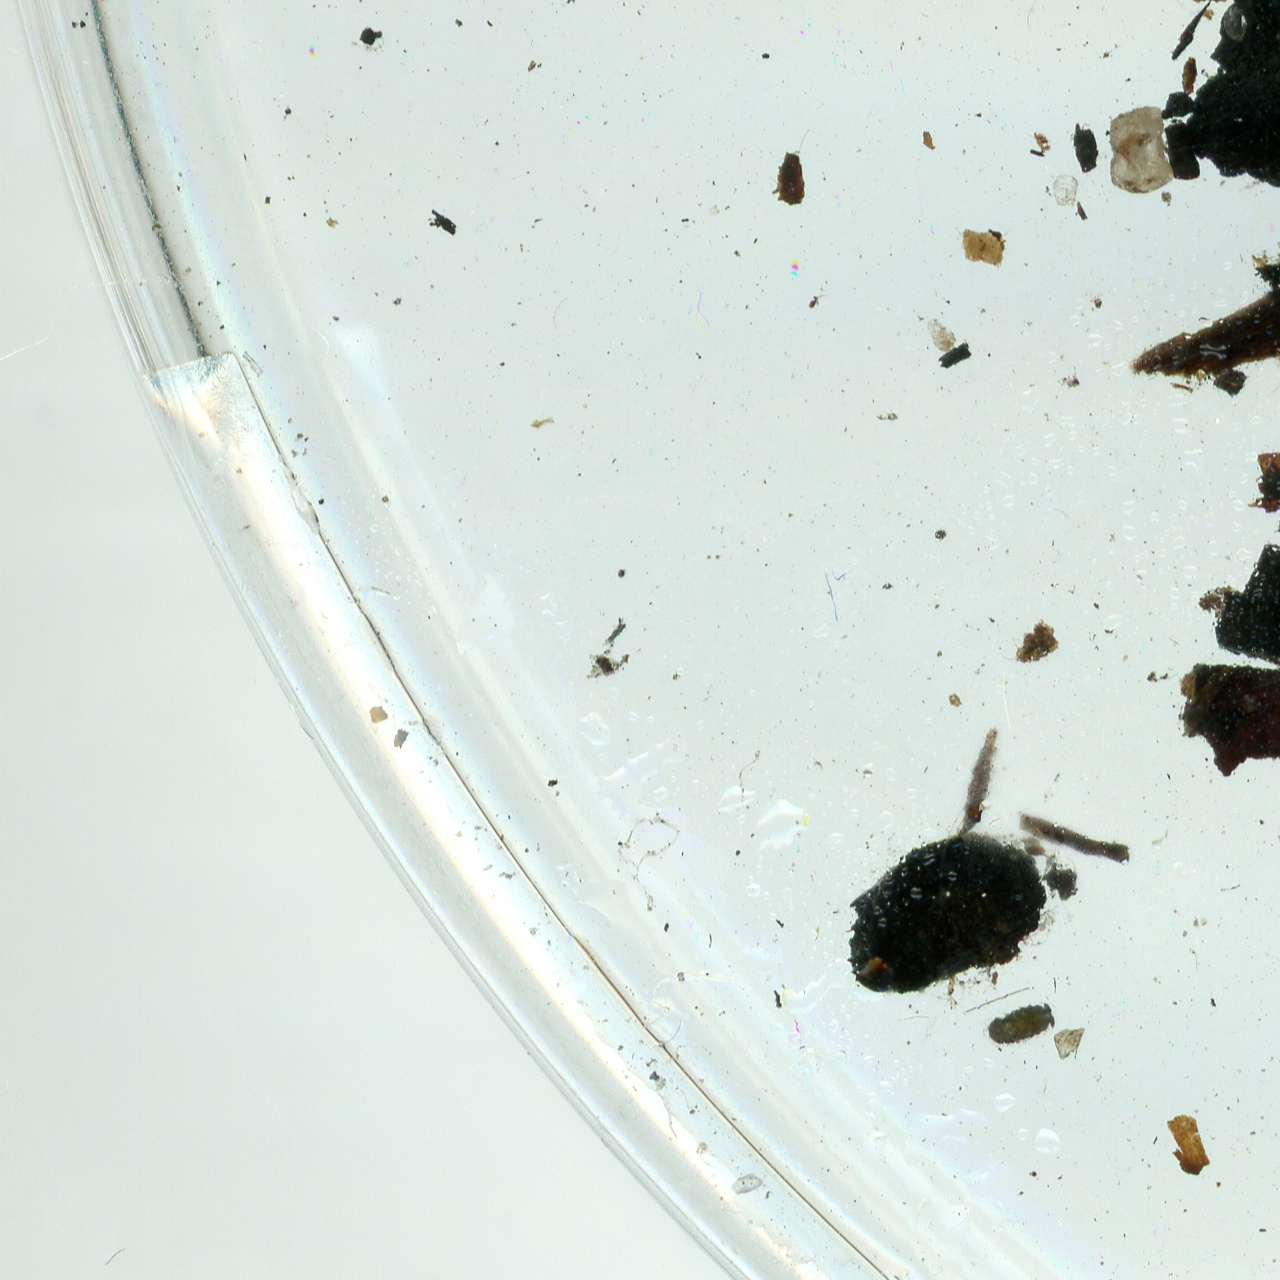arthropod: (979, 993, 1063, 1058)
